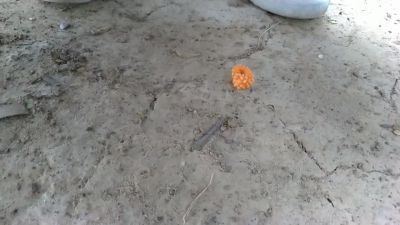eggs: (234, 64, 258, 97)
